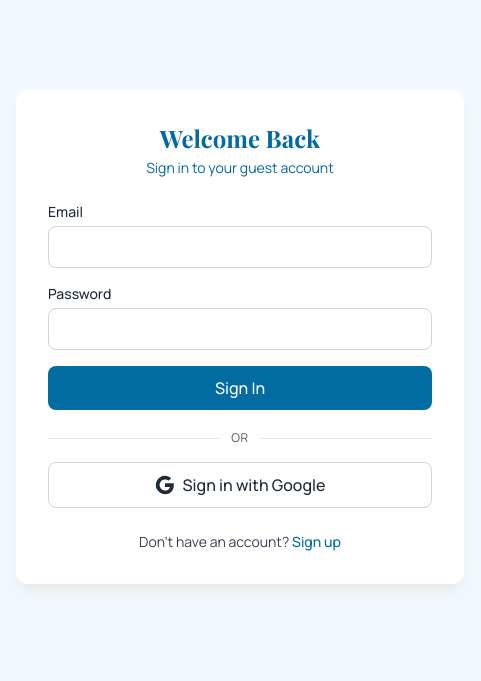
Test: GuestLogin page › navigates to signup page
Click the link "Sign up".
click(316, 542)  # box [292,532,341,551]
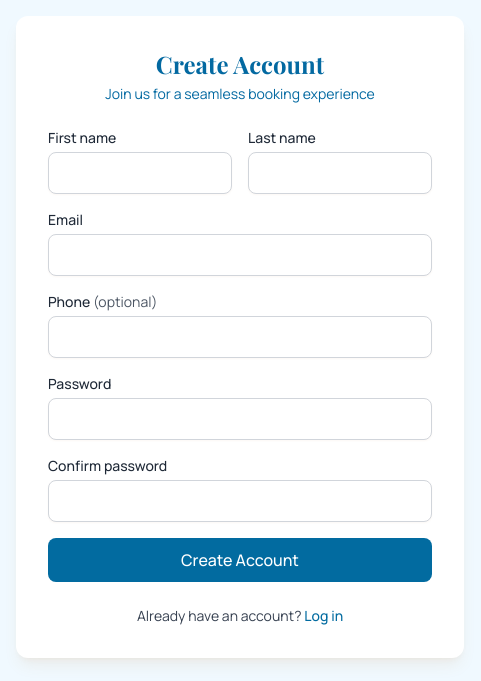
expect the heading "Create Account" is shown: met, box [156,48,324,80]
